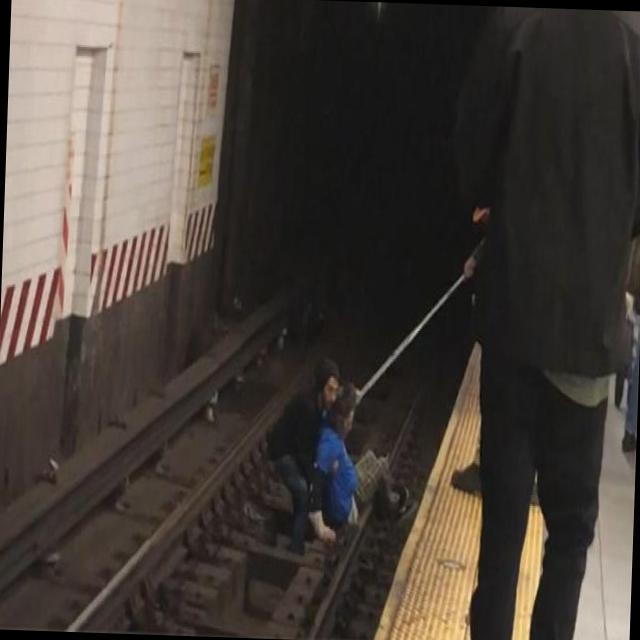person: (418, 4, 636, 640), (314, 352, 424, 542), (257, 322, 335, 555)
